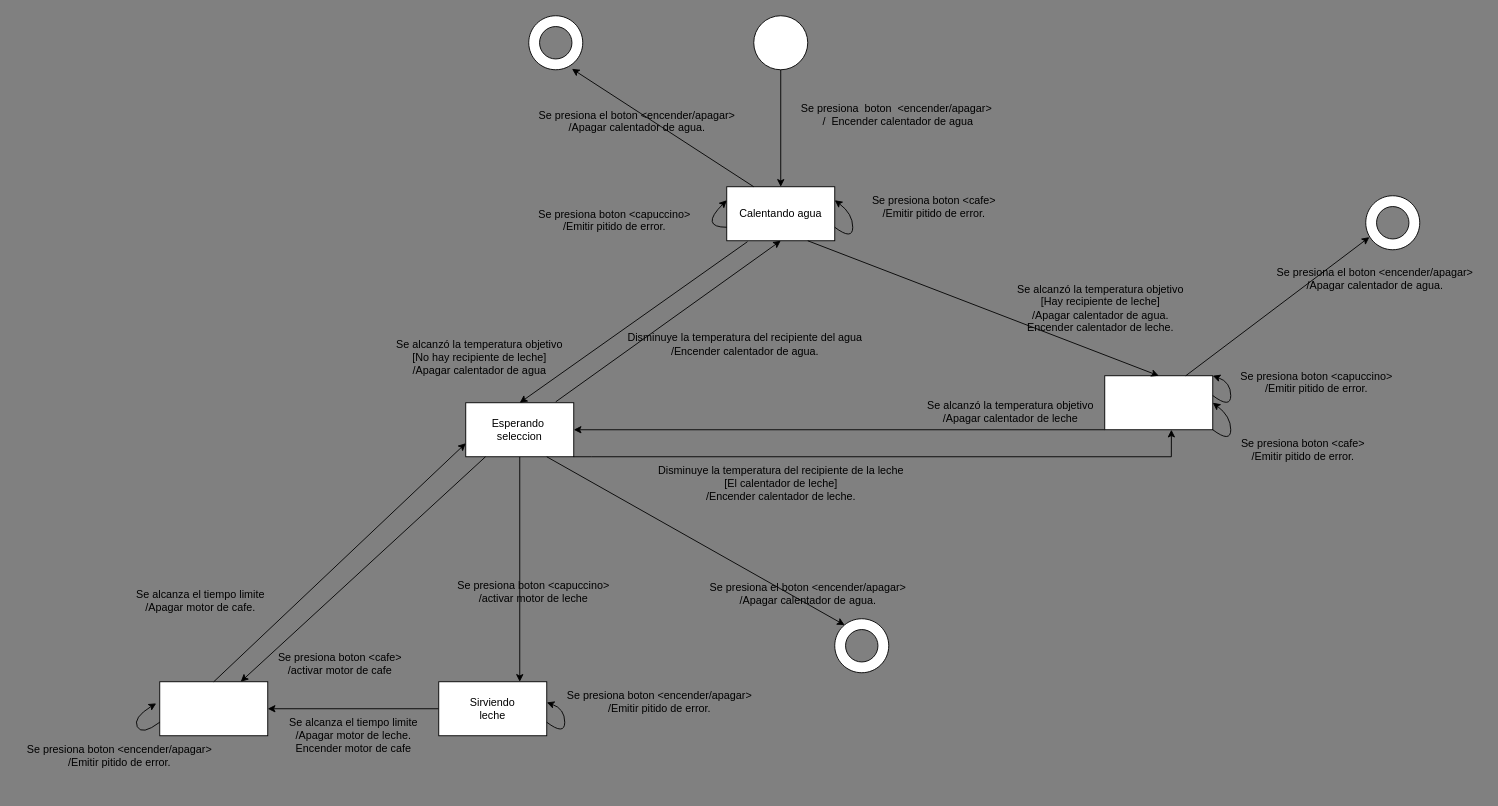
The diagram is 1498 pixels wide and 806 high, and some of its shapes have lost their labels. The shapes that lost their labels are listed below. From the top down, each one's box as (x1, y1, x2, y2) in pixels, then its label:
(1104, 375, 1213, 430): Calentando leche
(159, 681, 268, 736): Sirviendo cafe
